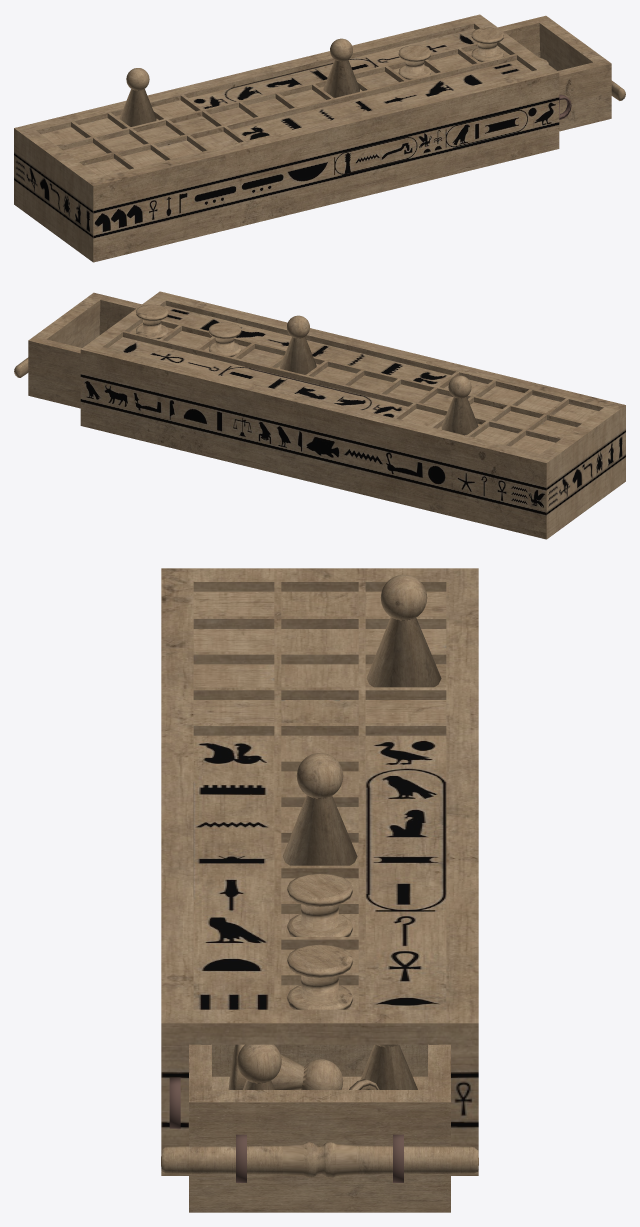
The model's file is senet.glb.
3 renders of one model, top to bottom at view 1: azimuth 30°, elevation 25°; view 2: azimuth 150°, elevation 25°; view 3: azimuth 270°, elevation 25°, orthographic. The views are drawn at different scales.
Parts seen in each view (by area): view 1: Cube, Cube.003, Cylinder.012, Cylinder.003, Cylinder.011, Cylinder.004; view 2: Cube, Cube.003, Cylinder.012, Cylinder.003, Cylinder.011, Cylinder.004; view 3: Cube, Cube.003, Cylinder.001, Cylinder.012, Cylinder.003, Cylinder.004, Cylinder.011, Cylinder.010, Cylinder.009, Cylinder.007, Cylinder.
Boxes of the visible parts, x1,y1,x2,y2 form: Cube: (14,14,559,262); Cube.003: (498,15,611,131); Cylinder.012: (119,68,156,126); Cylinder.003: (323,38,359,97); Cylinder.011: (398,45,430,79); Cylinder.004: (471,27,503,62); Cube: (80,291,625,539); Cube.003: (28,292,141,408); Cylinder.012: (441,375,478,435); Cylinder.003: (280,315,316,374); Cylinder.011: (209,322,241,356); Cylinder.004: (136,304,168,339); Cube: (161,568,478,1175); Cube.003: (189,1044,450,1212); Cylinder.001: (161,1141,478,1177); Cylinder.012: (366,574,441,687); Cylinder.003: (282,753,357,865); Cylinder.004: (287,944,352,1009); Cylinder.011: (287,873,352,936); Cylinder.010: (228,1044,343,1089); Cylinder.009: (360,1044,417,1089); Cylinder.007: (237,1044,281,1089); Cylinder: (236,1134,403,1182).
Bounding box in the file's own units: 1468 × 323 × 377.
Materials: 5 (5 with a texture image).
